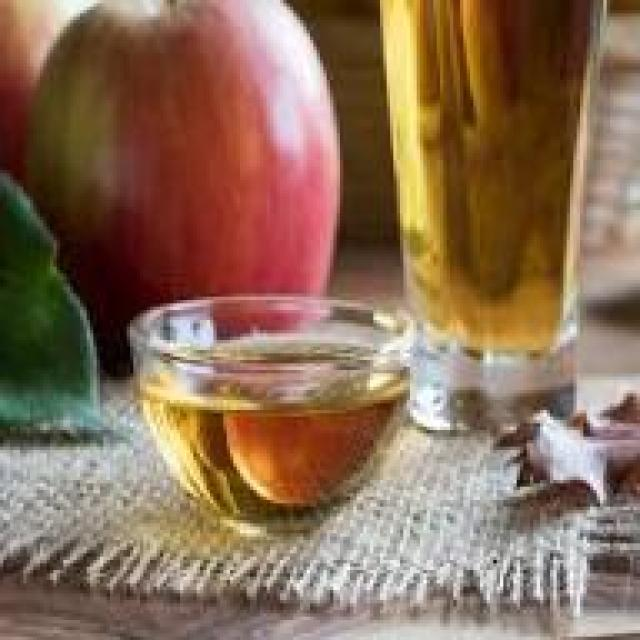apple: (37, 6, 343, 326)
